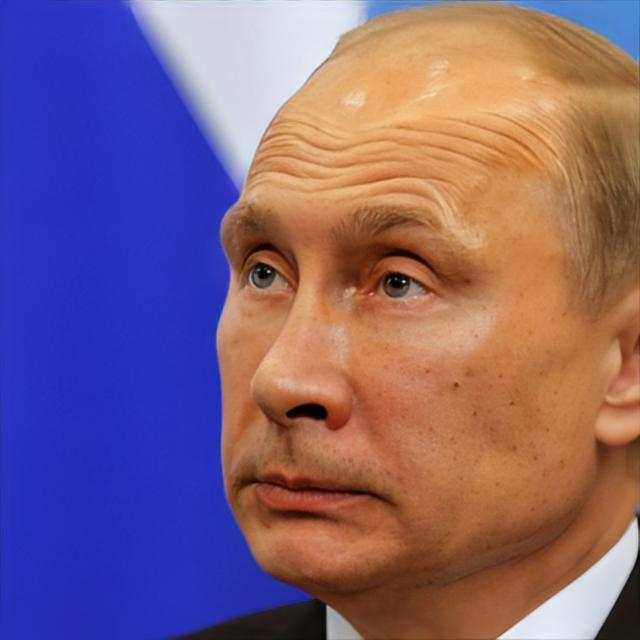surprise: (213, 75, 592, 597)
